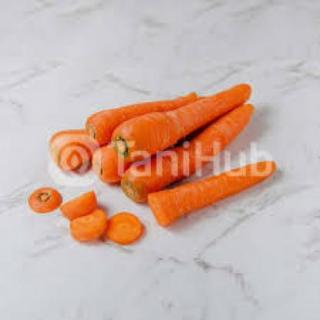Wortel: (112, 84, 253, 163), (147, 157, 279, 229)
